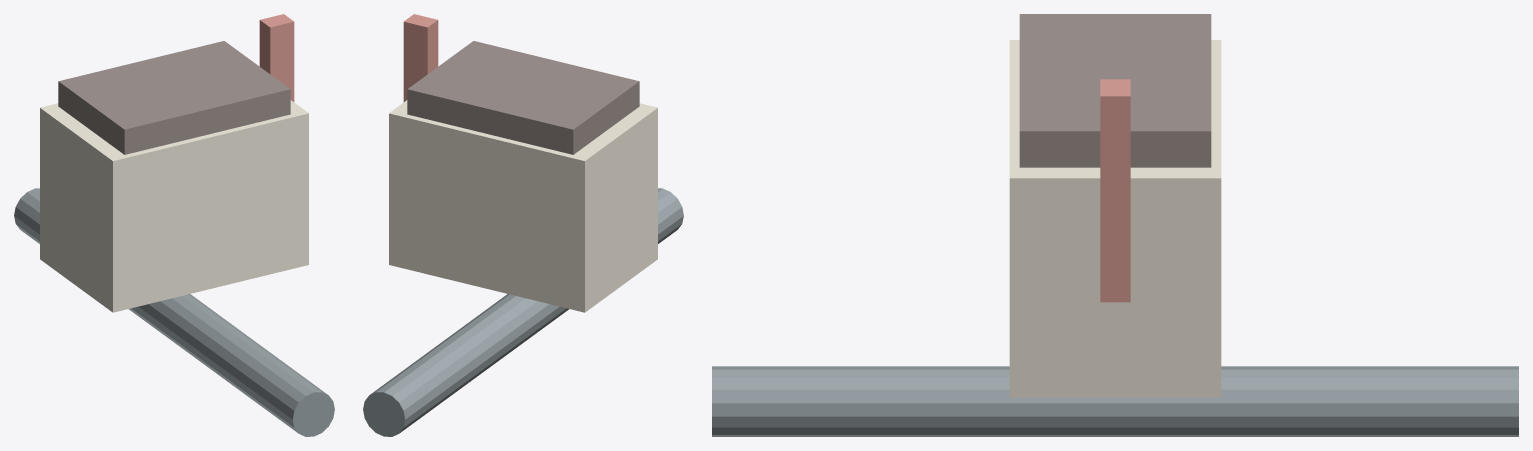
File: mailbox_basic.glb
3 renders of one model, left to right at view 1: azimuth 30°, elevation 25°; view 2: azimuth 150°, elevation 25°; view 3: azimuth 270°, elevation 25°, orthographic. The views are drawn at different scales.
Parts seen in each view (by area): view 1: part_00, part_01, part_02, part_03; view 2: part_00, part_01, part_02, part_03; view 3: part_02, part_00, part_01, part_03.
Boxes of the visible parts, x1,y1,x2,y2 form: part_00: (40,100,308,312); part_01: (58,41,290,154); part_02: (14,188,334,436); part_03: (259,14,294,101); part_00: (389,100,657,312); part_01: (407,41,639,154); part_02: (363,188,683,436); part_03: (403,14,438,101); part_02: (712,366,1518,436); part_00: (1009,40,1221,397); part_01: (1019,14,1211,167); part_03: (1100,79,1130,302).
Bounding box in the file's own units: 0.705 × 0.915 × 1.6.
